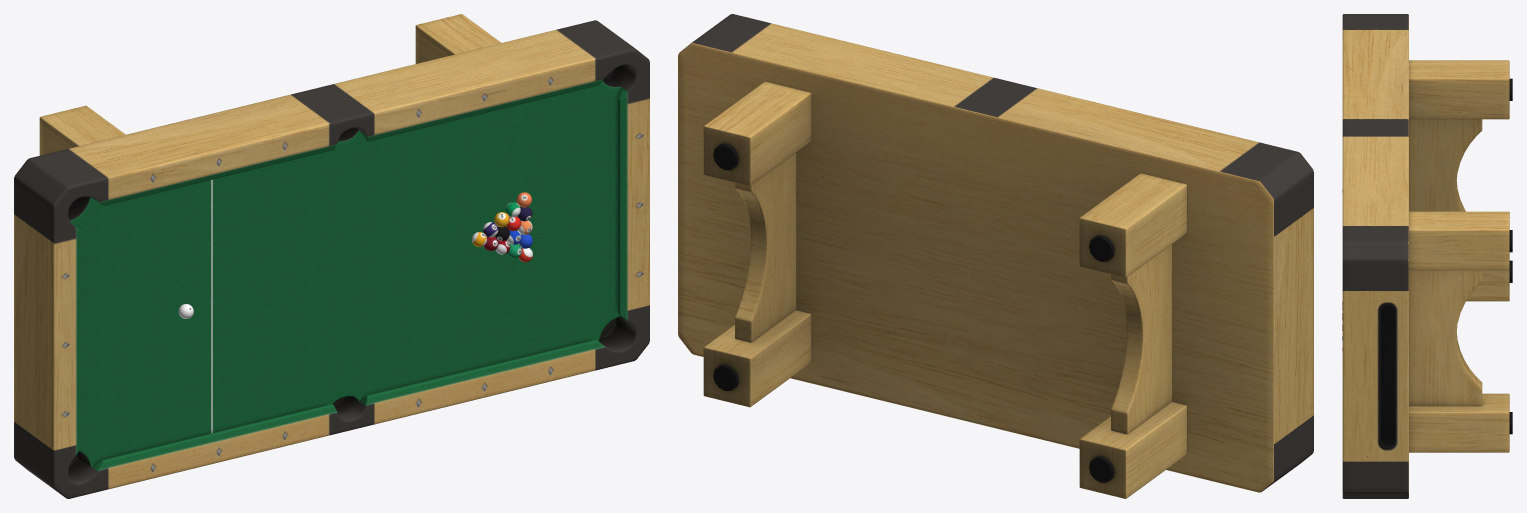
File: cp_mesa_billar_c.glb
The picture shows the model from 3 angles, left to right: view 1: azimuth 30°, elevation 25°; view 2: azimuth 150°, elevation 25°; view 3: azimuth 270°, elevation 25°; orthographic projection. The views are drawn at different scales.
Parts seen in each view (by area): view 1: Object_3, Object_2; view 2: Object_3, Object_2; view 3: Object_3, Object_2.
Part boxes in pixels (x1,y1,x2,y2): Object_3: [14, 14, 649, 489]; Object_2: [14, 20, 649, 498]; Object_3: [678, 23, 1313, 498]; Object_2: [678, 14, 1313, 492]; Object_3: [1342, 30, 1512, 461]; Object_2: [1342, 14, 1408, 498].
Bounding box in the file's own units: 254 × 127 × 76.36.
1 material, 1 textured.
